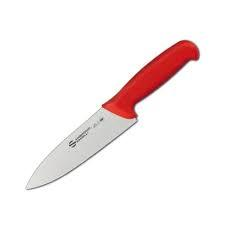Knife: (24, 38, 200, 190)
